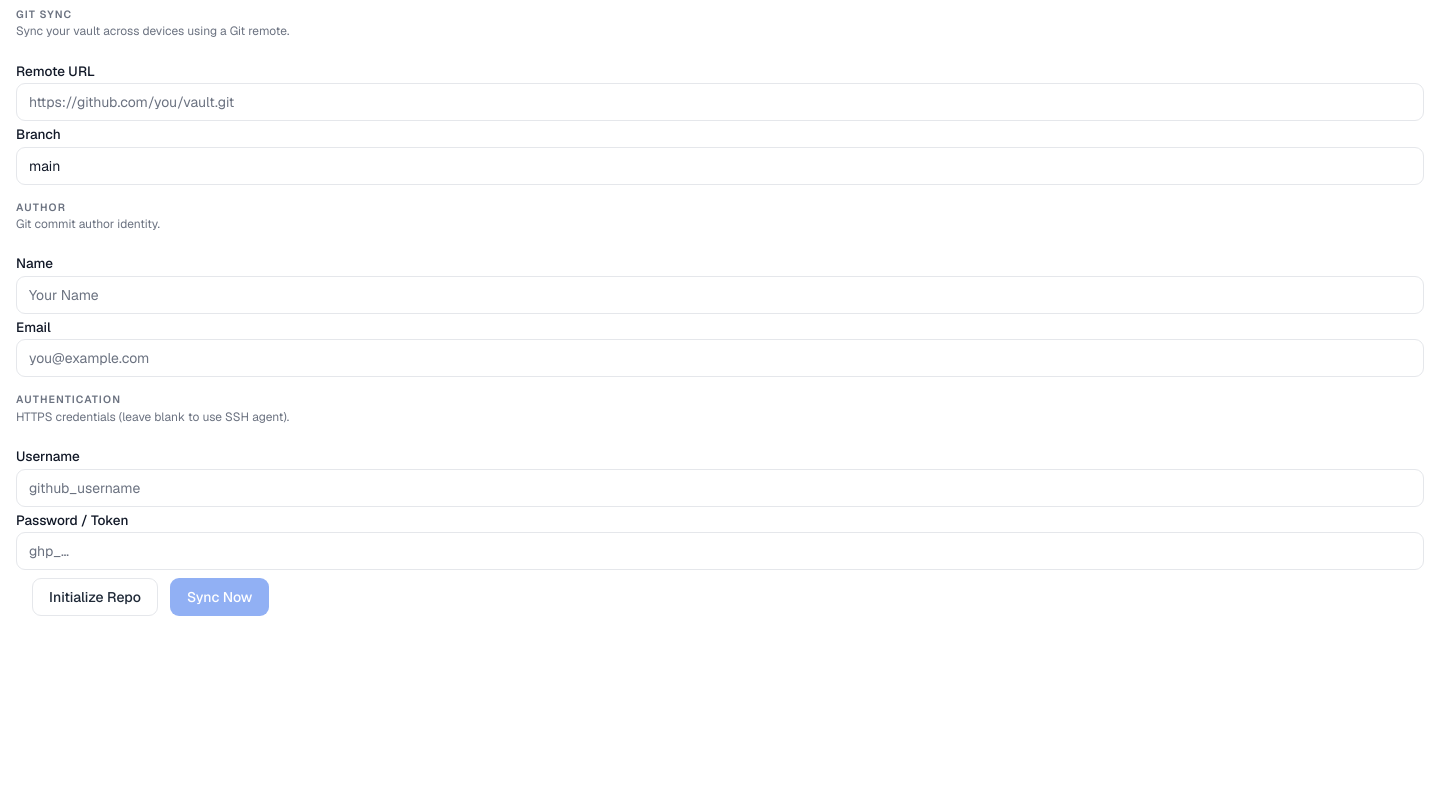
Test case: SyncSettings › surfaces an error and does not report success when the credential write fails
Type "hunter2" into the password field with placeholder "ghp_…" at (720, 551), box [16, 532, 1424, 570]
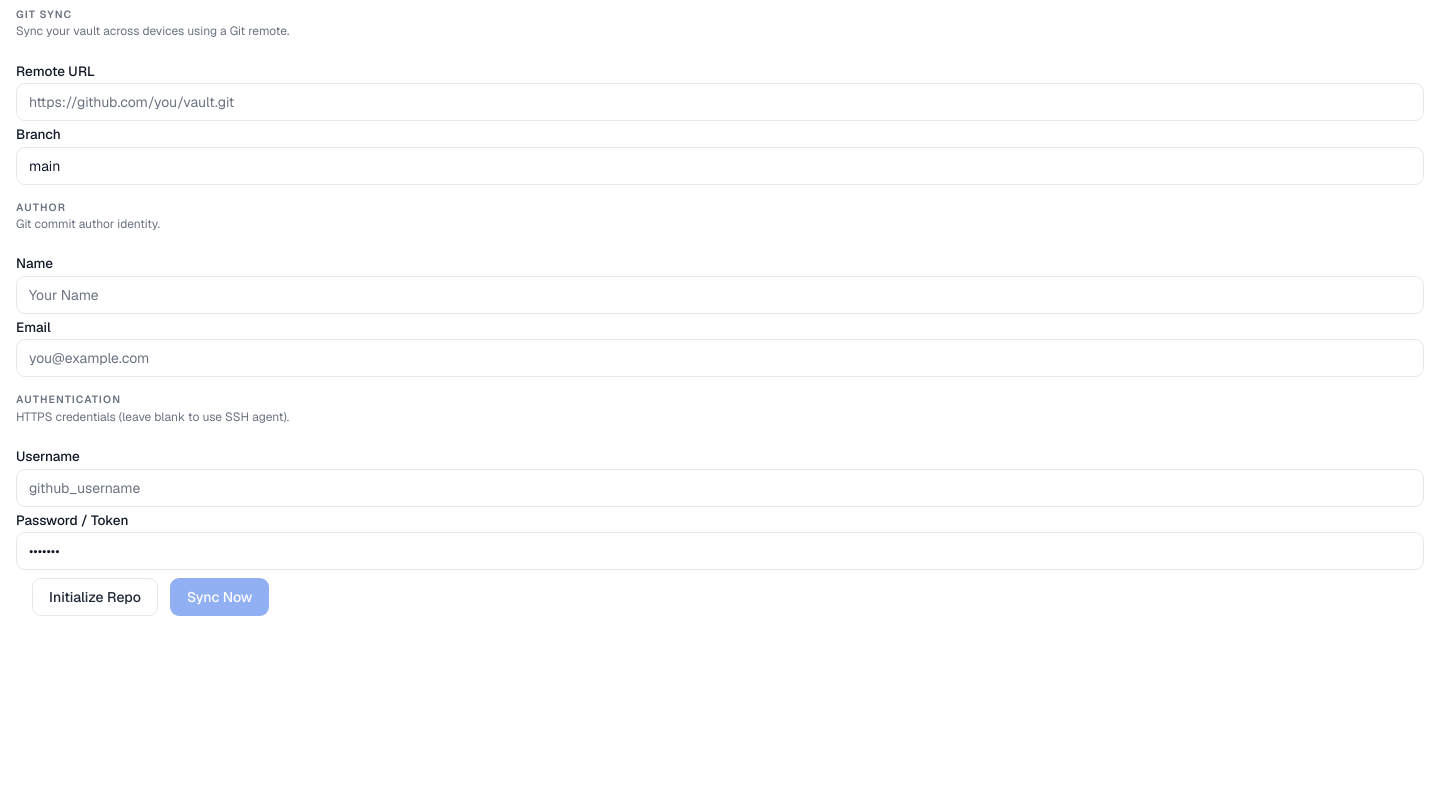
Click the button "Initialize Repo" at (95, 597), box [32, 578, 158, 616]
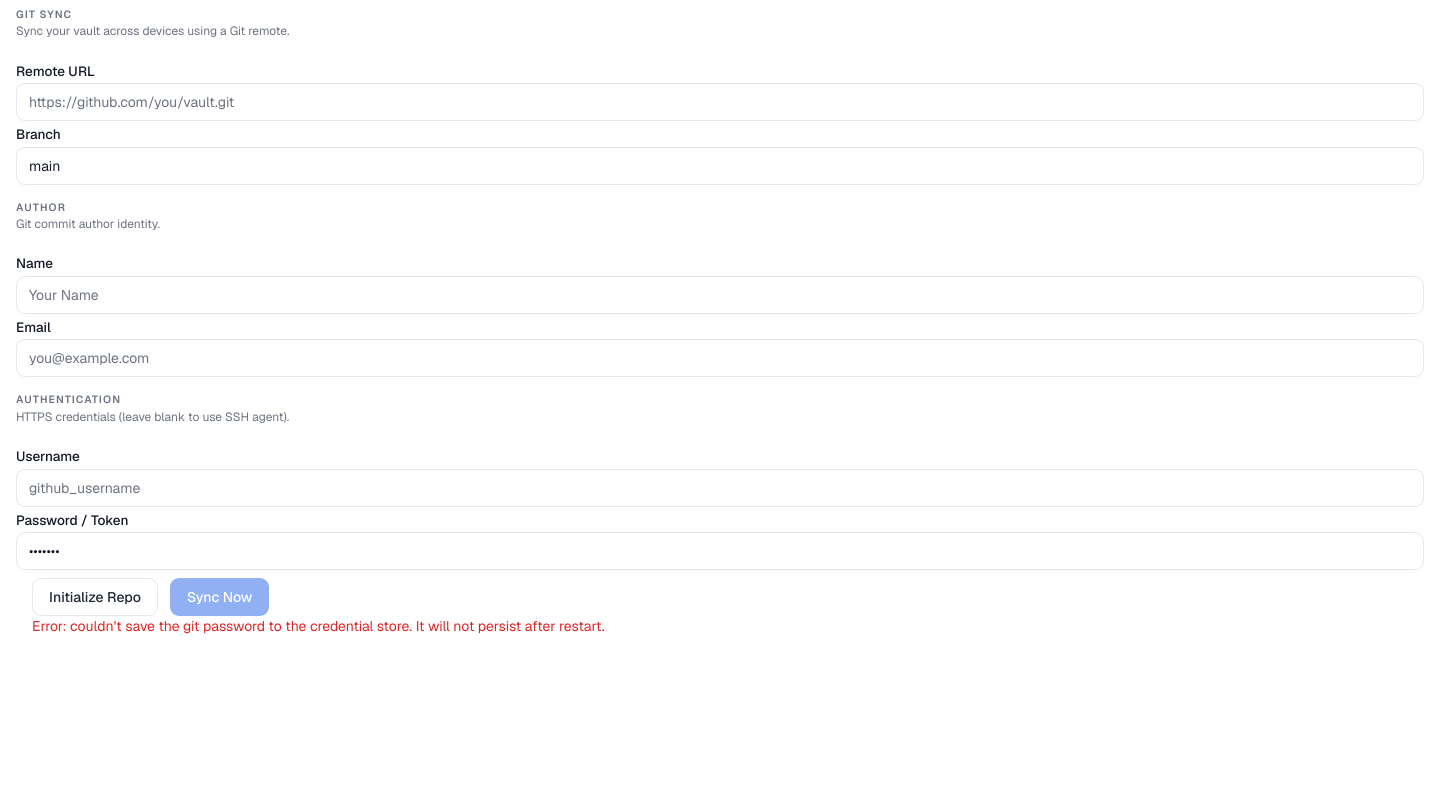
Expected: the text "couldn't save the git password" is shown, [32, 617, 605, 635]
